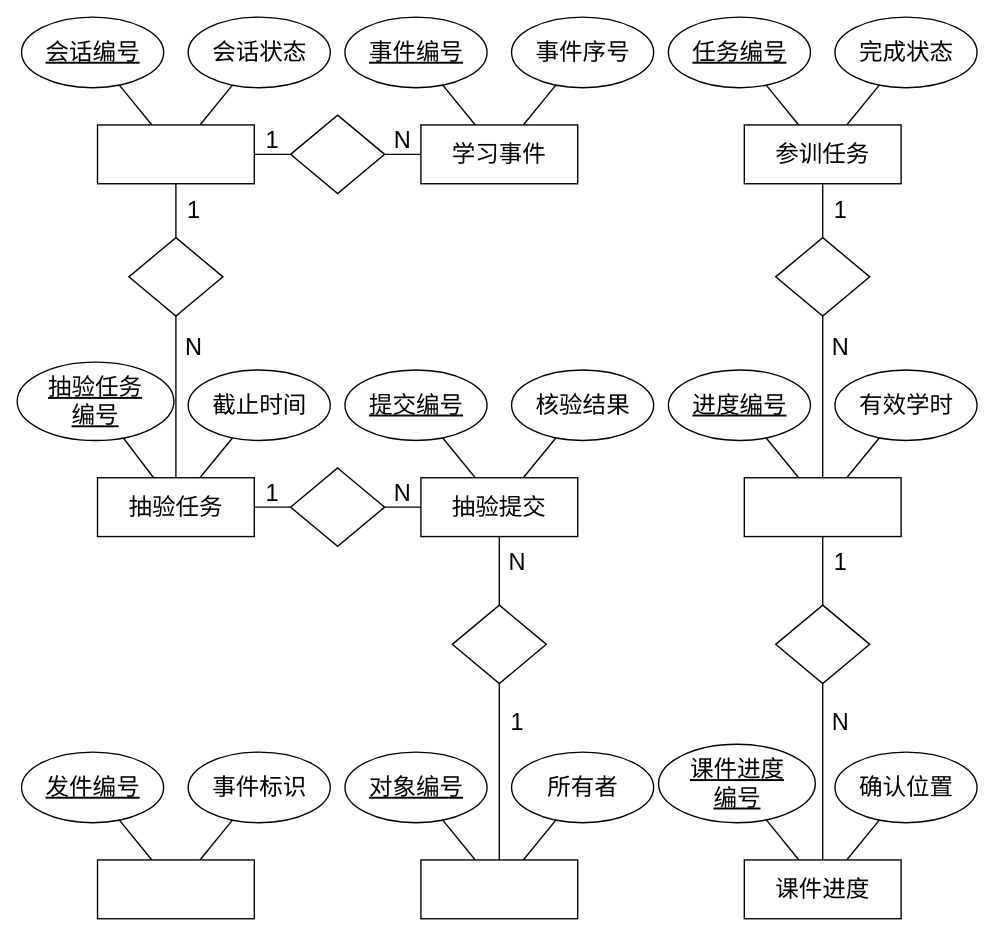
The diagram is 995 pixels wide and 937 high, and some of its shapes have lost their labels. The box of each missing label's shape, as (x1, y1, x2, y2) in pixels:
发件记录: (96, 859, 255, 919)
受理: (289, 114, 385, 194)
学习会话: (96, 124, 255, 184)
引用: (451, 604, 547, 684)
提交: (289, 467, 385, 547)
汇总: (774, 604, 870, 684)
照片对象: (420, 859, 578, 919)
累计: (774, 236, 870, 316)
触发: (128, 236, 223, 316)
课程进度: (743, 477, 901, 537)
